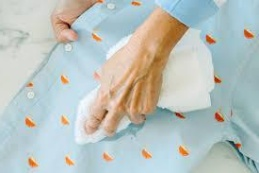oil: (105, 131, 126, 144), (125, 126, 142, 136)
